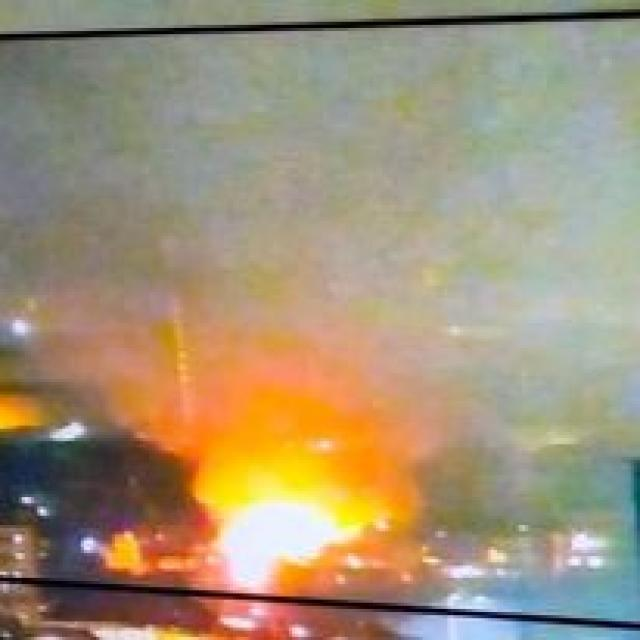Fire: (204, 485, 362, 593)
